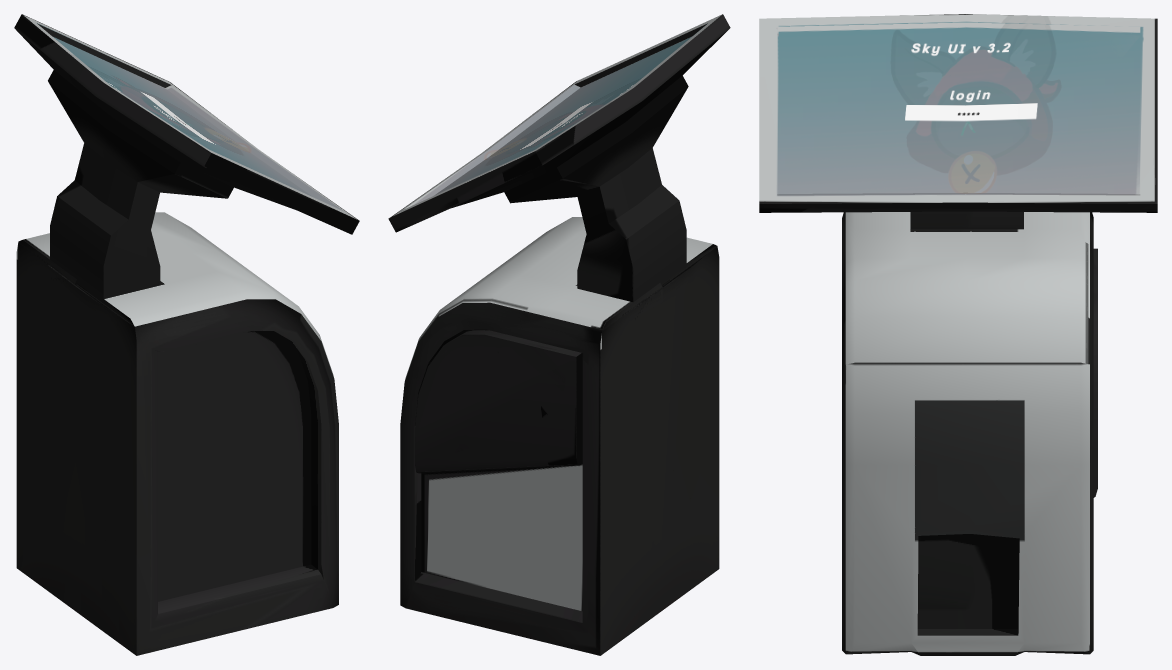
File: Terminal.glb
The picture shows the model from 3 angles, left to right: view 1: azimuth 30°, elevation 25°; view 2: azimuth 150°, elevation 25°; view 3: azimuth 270°, elevation 25°; orthographic projection. The views are drawn at different scales.
Parts seen in each view (by area): view 1: Cube.007; view 2: Cube.007; view 3: Cube.007.
Part boxes in pixels (bbox=[...]): Cube.007: bbox=[14, 14, 359, 655]; Cube.007: bbox=[388, 14, 730, 655]; Cube.007: bbox=[759, 14, 1157, 655].
Bounding box in the file's own units: 2.06 × 4.83 × 3.17.
1 material, 1 textured.
